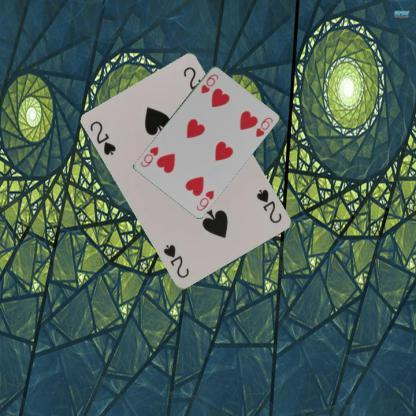2s: (254, 186, 284, 224), (88, 118, 118, 156)
6h: (193, 187, 216, 212), (198, 71, 220, 95)
